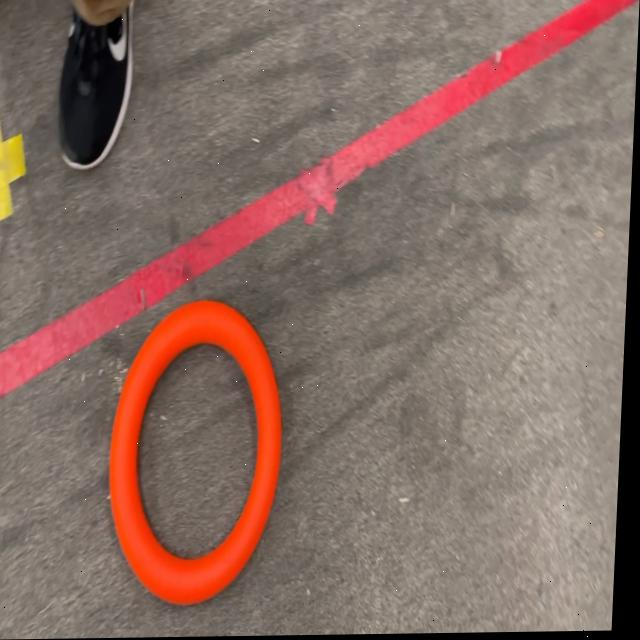note: (109, 299, 291, 607)
